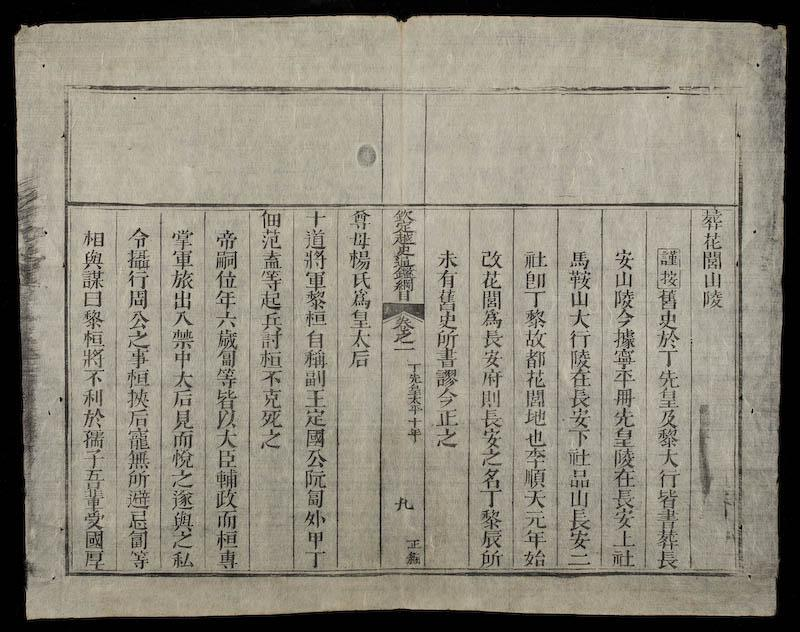c: (79, 483, 108, 509), (389, 208, 417, 233), (125, 225, 153, 249), (389, 234, 418, 257), (698, 207, 725, 231), (566, 507, 593, 531), (80, 464, 107, 487), (390, 279, 417, 302), (169, 227, 196, 250), (124, 248, 152, 270), (257, 228, 285, 250), (301, 228, 329, 250), (610, 327, 638, 349), (653, 527, 681, 549), (258, 428, 284, 451), (478, 507, 505, 529), (125, 428, 152, 450), (433, 427, 460, 449), (169, 328, 196, 350), (80, 406, 107, 428), (566, 467, 593, 489), (169, 268, 196, 290), (521, 248, 548, 270), (213, 228, 240, 250), (346, 249, 373, 271), (124, 387, 152, 408), (79, 347, 107, 368), (345, 348, 373, 369), (389, 256, 417, 277), (653, 488, 681, 509), (608, 548, 637, 568), (612, 247, 637, 270), (170, 408, 196, 430), (347, 208, 373, 230), (214, 328, 240, 350), (169, 509, 195, 531), (125, 508, 151, 530), (213, 366, 239, 388), (124, 347, 151, 368), (169, 488, 196, 509), (213, 428, 240, 449), (302, 407, 329, 428), (80, 227, 107, 248), (611, 487, 638, 508), (521, 488, 548, 509), (79, 249, 106, 270), (522, 447, 549, 468), (257, 290, 284, 311), (611, 467, 638, 488), (433, 348, 460, 369), (566, 269, 593, 290), (213, 468, 240, 489), (81, 549, 108, 570), (521, 528, 549, 548), (257, 349, 285, 369), (124, 367, 152, 387), (79, 269, 107, 289), (301, 250, 329, 270), (653, 509, 681, 529), (124, 408, 152, 428), (124, 468, 152, 488), (124, 488, 152, 508), (656, 288, 681, 310), (435, 247, 460, 269), (479, 467, 504, 489), (611, 366, 637, 387), (655, 388, 681, 409), (302, 468, 328, 489), (80, 308, 106, 329), (566, 530, 592, 551), (611, 508, 637, 529), (303, 289, 329, 310), (611, 427, 637, 448), (479, 248, 505, 269), (567, 349, 593, 370), (611, 407, 637, 428), (611, 348, 637, 369), (213, 488, 239, 509), (81, 509, 107, 530), (258, 387, 284, 408), (213, 388, 239, 409), (170, 368, 196, 389), (79, 386, 106, 406), (169, 448, 196, 468), (699, 289, 726, 309), (521, 509, 548, 529), (80, 428, 107, 448), (213, 529, 240, 549), (654, 329, 681, 349), (521, 468, 548, 488), (169, 388, 196, 408), (301, 349, 328, 369), (565, 447, 592, 467), (566, 308, 593, 328), (213, 549, 240, 569), (124, 269, 151, 289), (654, 549, 681, 569), (477, 549, 505, 568), (521, 548, 549, 567), (124, 450, 152, 469), (168, 550, 196, 569), (435, 289, 459, 311), (303, 427, 328, 448), (479, 428, 504, 449), (348, 309, 373, 330), (611, 288, 636, 309), (567, 248, 592, 269), (656, 246, 681, 267), (214, 408, 239, 429), (258, 270, 284, 290), (302, 388, 328, 408), (258, 250, 284, 270), (478, 528, 504, 548), (258, 311, 284, 331), (258, 208, 284, 228), (434, 269, 460, 289), (433, 368, 459, 388), (655, 368, 681, 388), (655, 468, 681, 488), (478, 408, 504, 428), (258, 408, 284, 428), (213, 509, 239, 529), (522, 270, 548, 290), (303, 270, 329, 290), (655, 428, 681, 448), (302, 508, 328, 528), (213, 250, 239, 270), (611, 448, 637, 468), (522, 308, 548, 328), (522, 328, 548, 348), (522, 349, 548, 369), (434, 388, 460, 408), (521, 289, 548, 308), (433, 408, 460, 427), (433, 329, 460, 348), (257, 330, 284, 349), (169, 468, 196, 487), (79, 328, 106, 347), (303, 328, 327, 349), (479, 289, 503, 310), (126, 549, 151, 569), (699, 231, 724, 251), (567, 388, 592, 408), (303, 448, 328, 468), (125, 289, 150, 309), (700, 250, 725, 270), (348, 289, 373, 309), (611, 387, 636, 407), (213, 289, 238, 309), (479, 349, 504, 369), (479, 269, 504, 289), (348, 329, 373, 349), (523, 427, 548, 447), (170, 290, 195, 310), (567, 408, 592, 428), (302, 208, 327, 228), (656, 310, 681, 330), (567, 329, 592, 349), (81, 529, 106, 549), (478, 388, 503, 408), (80, 451, 106, 470), (655, 448, 681, 467), (213, 310, 239, 329), (567, 369, 593, 388), (302, 369, 328, 388), (213, 270, 239, 289), (611, 529, 637, 548), (347, 230, 373, 249), (479, 448, 505, 467), (169, 530, 195, 549), (169, 249, 195, 268), (125, 329, 151, 348), (522, 408, 549, 426), (258, 369, 285, 387), (302, 310, 329, 328), (169, 430, 196, 448), (478, 488, 505, 506), (215, 449, 239, 469), (480, 329, 504, 349), (523, 388, 547, 408), (392, 494, 416, 514), (567, 428, 592, 447), (523, 369, 548, 388), (479, 309, 504, 328), (479, 369, 504, 388), (434, 311, 459, 330), (125, 530, 150, 549), (567, 488, 592, 507), (348, 271, 374, 289), (80, 289, 106, 307), (80, 368, 106, 386), (656, 409, 680, 428), (657, 269, 681, 288), (612, 270, 636, 289), (126, 310, 150, 329), (303, 488, 327, 507), (655, 349, 680, 367), (303, 550, 328, 568), (567, 290, 592, 308), (700, 270, 725, 288), (169, 310, 195, 327), (613, 308, 636, 327), (389, 314, 418, 329), (215, 349, 239, 367), (391, 329, 418, 345), (170, 350, 194, 368), (565, 552, 593, 567), (304, 529, 326, 548), (404, 361, 422, 384), (404, 386, 423, 405), (390, 346, 418, 356), (406, 428, 423, 443), (405, 550, 422, 565), (404, 536, 422, 550), (407, 416, 423, 428), (407, 404, 423, 415)
